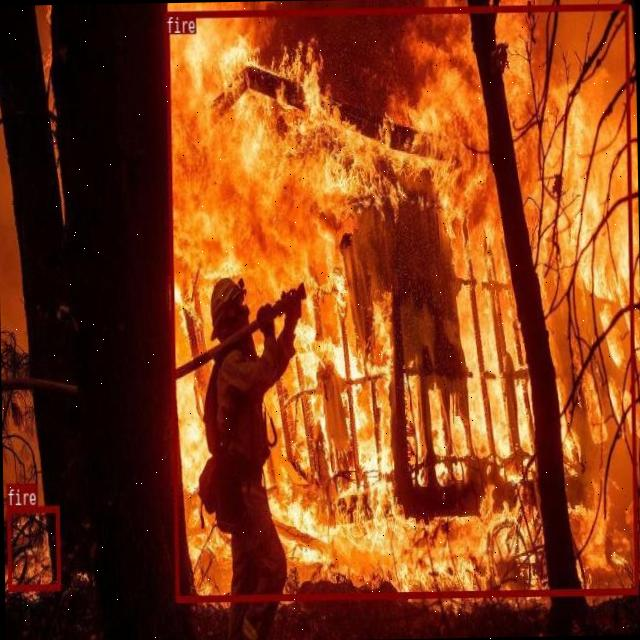fire: (165, 3, 638, 600), (6, 504, 59, 590)
